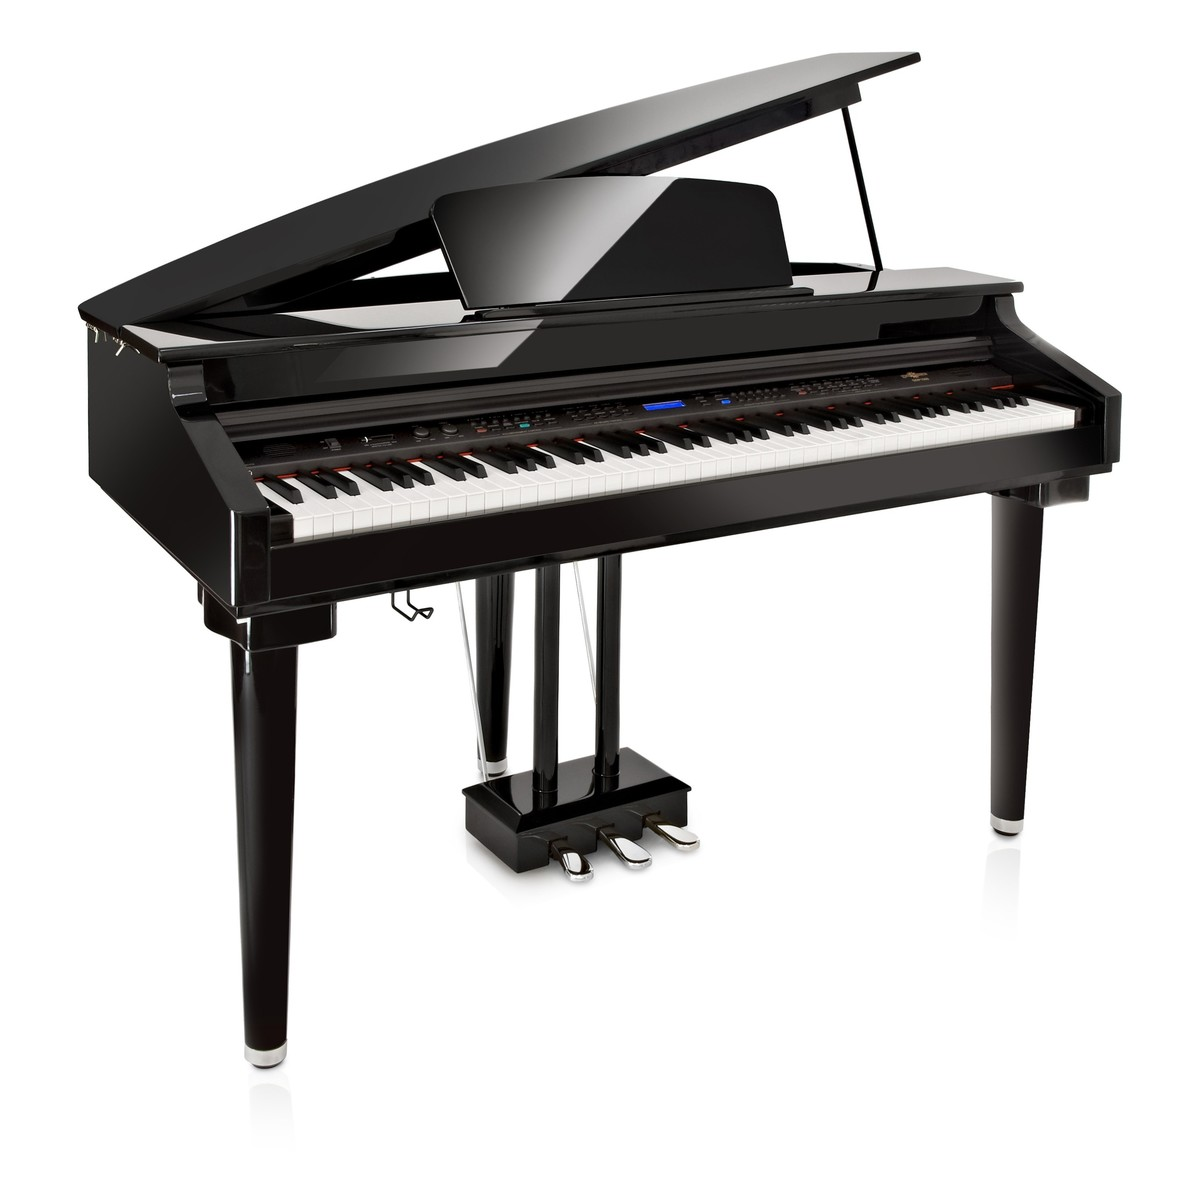GrandPiano: (57, 51, 1122, 851)
